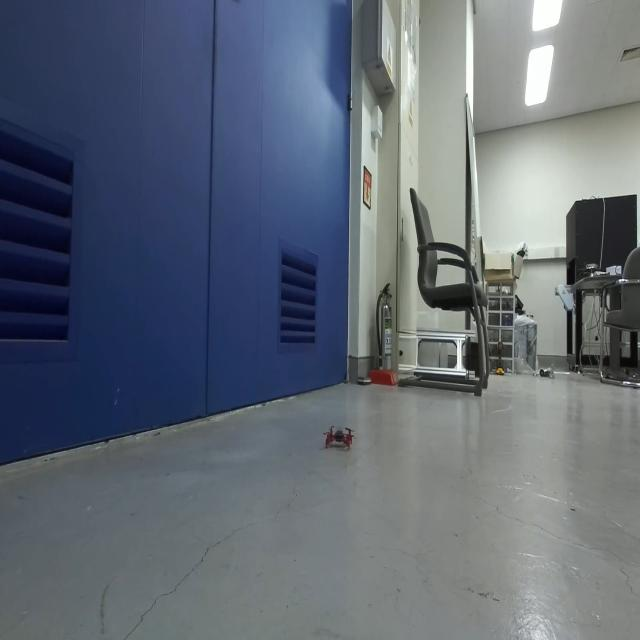crazyflie: (321, 420, 356, 459)
